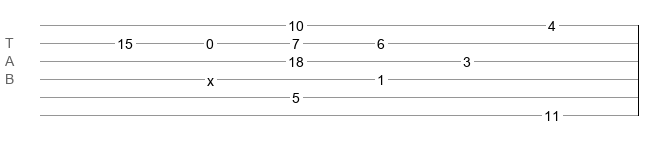0: (206, 36, 214, 46)
1: (377, 72, 385, 82)
10: (288, 18, 304, 28)
11: (544, 108, 560, 118)
15: (117, 36, 133, 46)
18: (288, 54, 304, 64)
3: (463, 54, 471, 64)
4: (548, 18, 556, 28)
5: (292, 90, 300, 100)
6: (377, 36, 385, 46)
7: (292, 36, 300, 46)
x: (207, 73, 214, 81)
